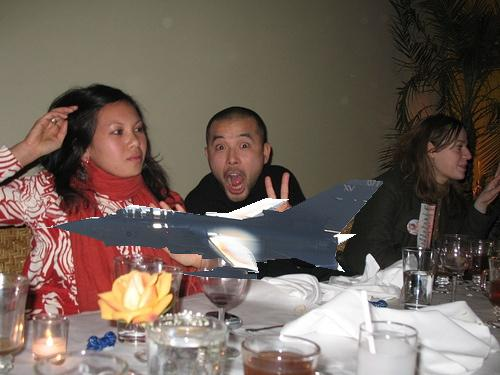tampered: (38, 180, 383, 279)
